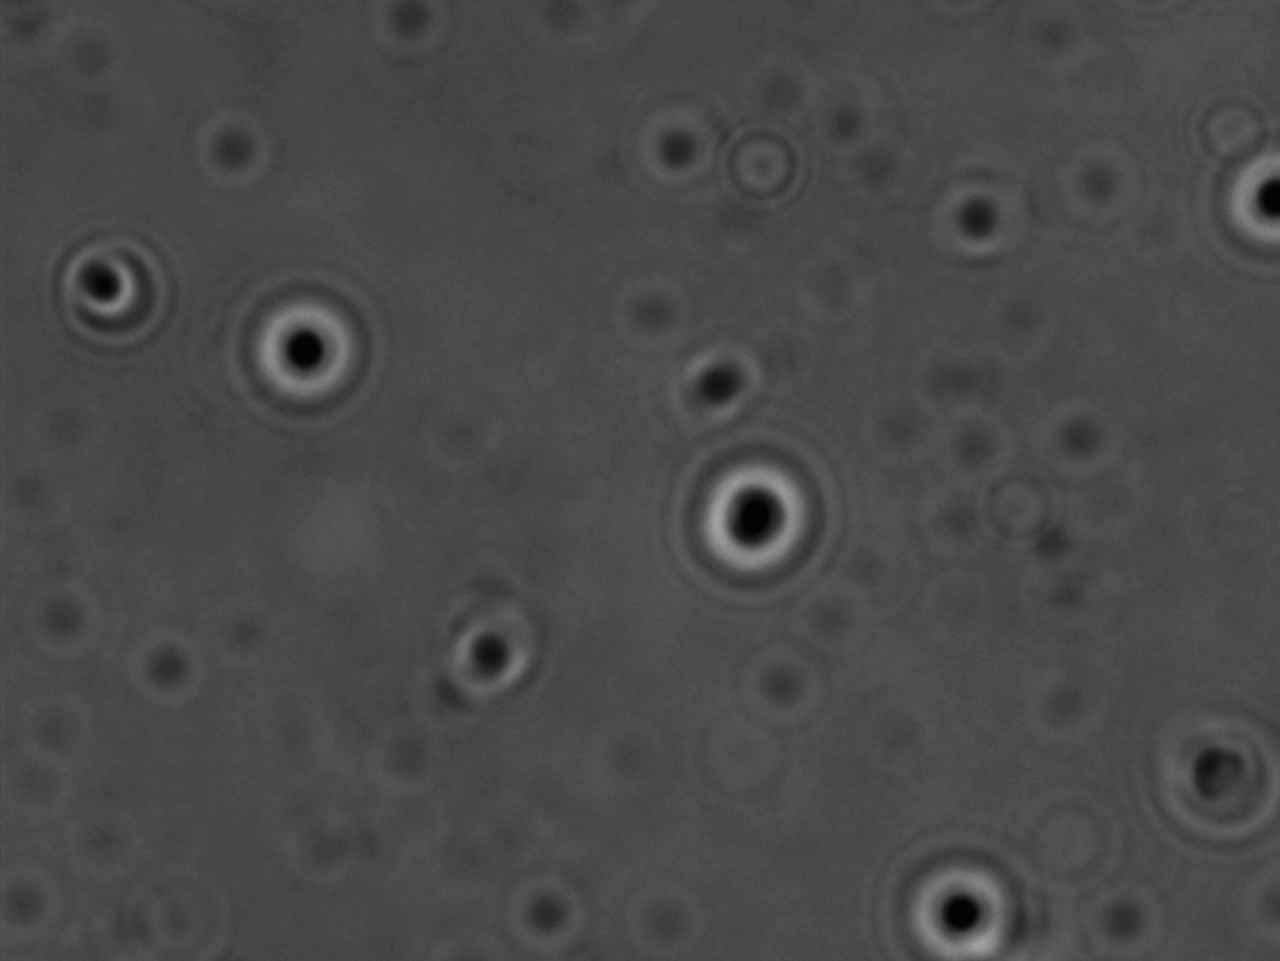depth:-24: (660, 427, 856, 618), (236, 282, 398, 425), (898, 845, 1028, 961)
